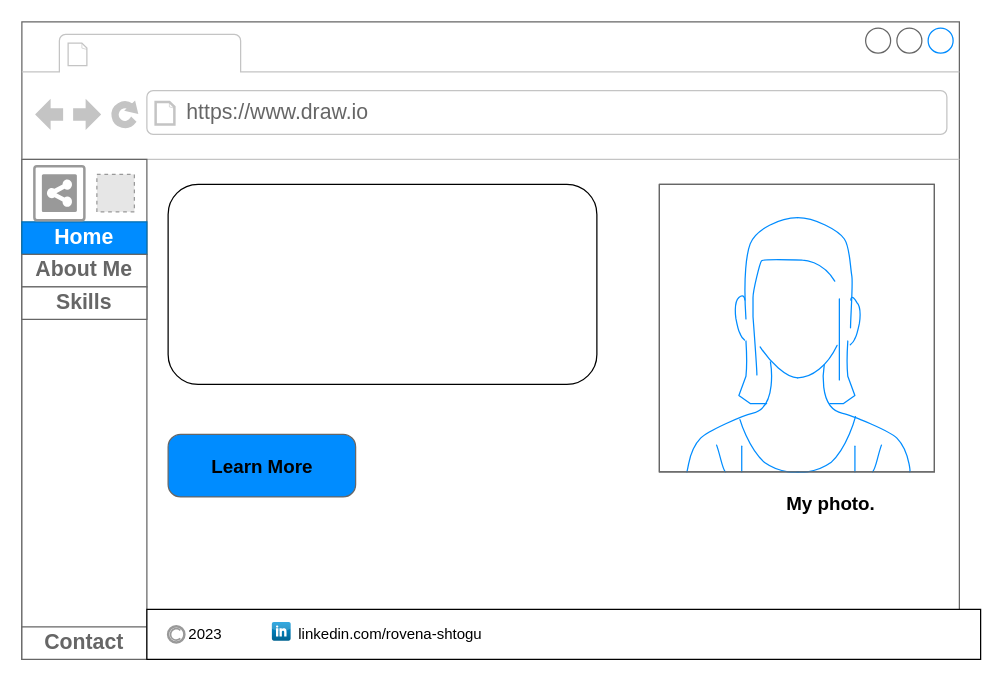
Some shapes in this 1003 by 681 pixel diagram are drawn without their labels. Grey dashed boxes stand in for pictures. Here are the shapes that lost their labels. From the top down, the centre of each, then its label:
At point 165,52: "Page 1".
At point 382,283: "Description of myself, in a short way.".
